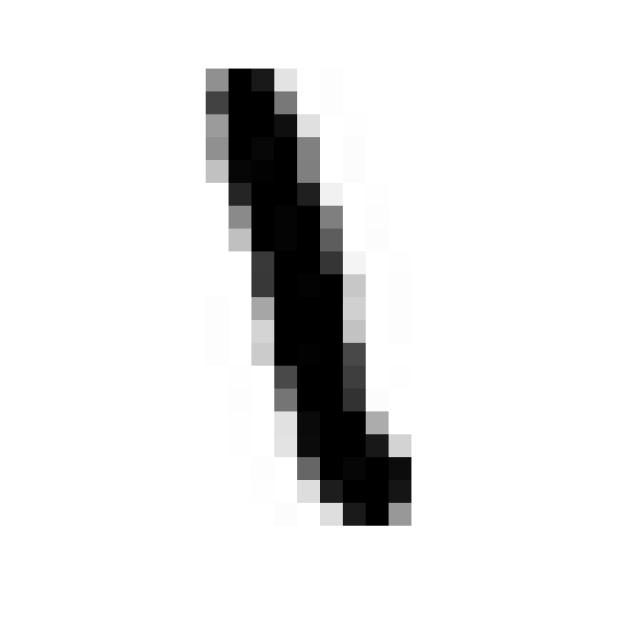1 -one-: (183, 32, 433, 540)
